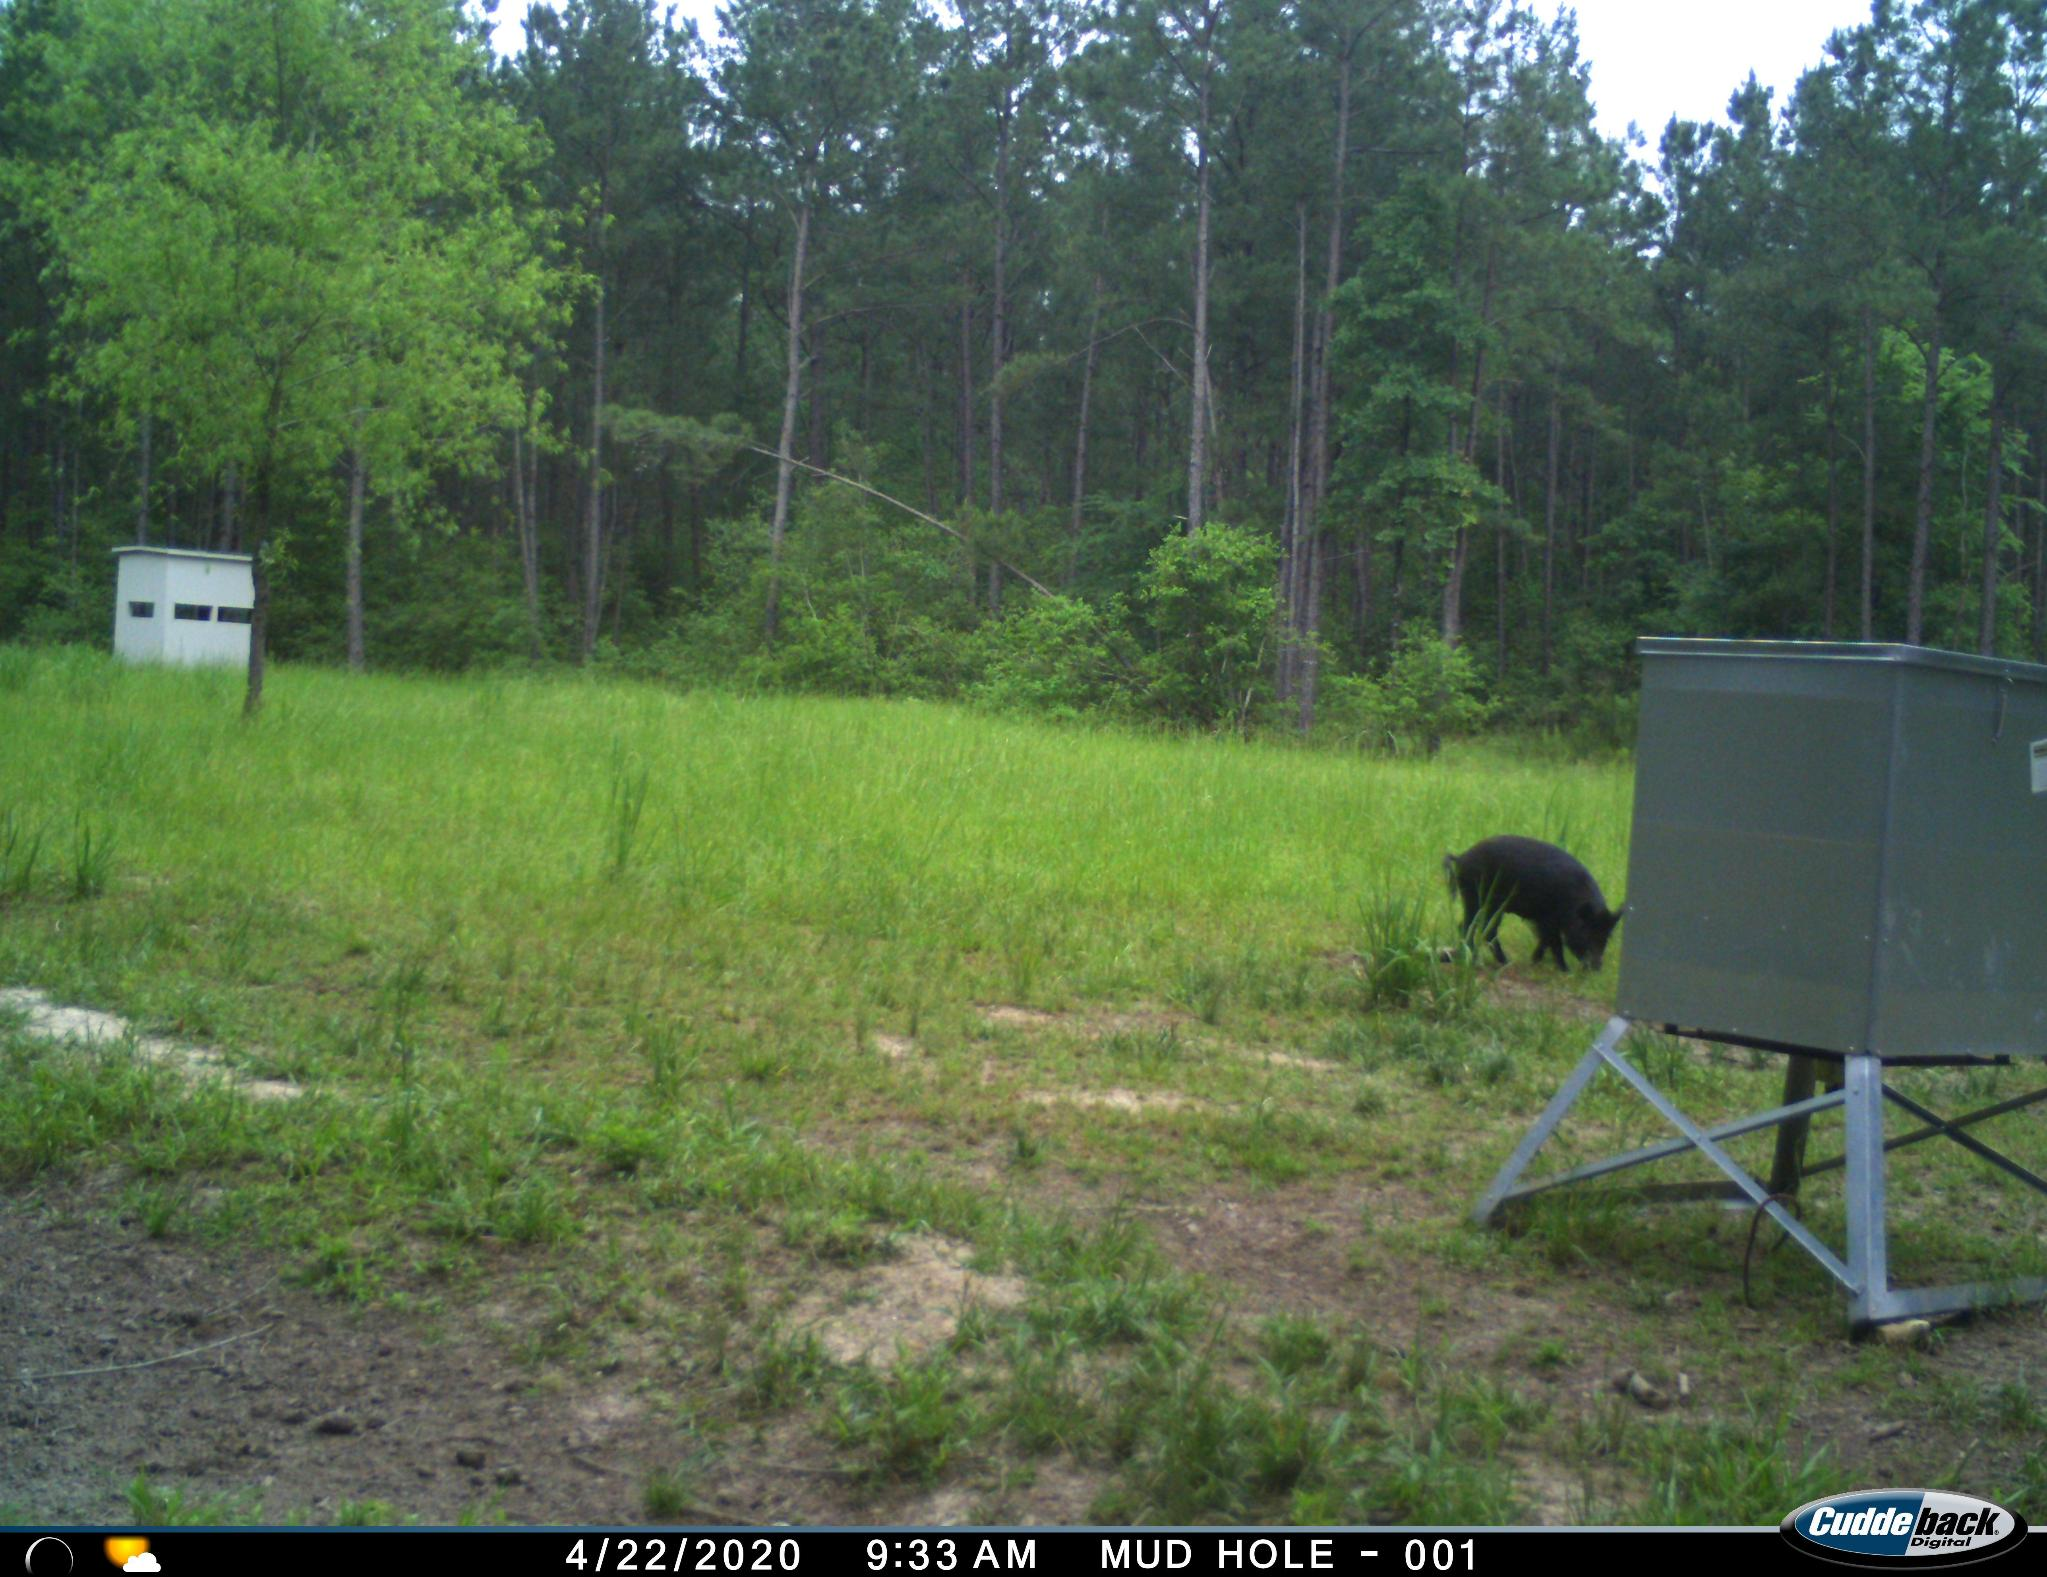Hog: (1439, 827, 1628, 992)
